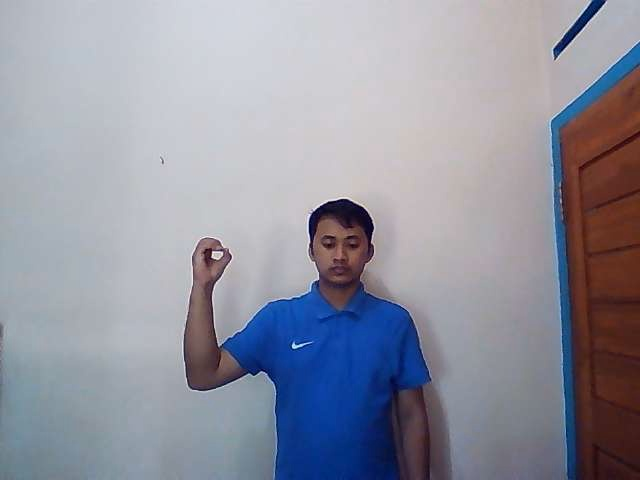O: (191, 236, 233, 283)
